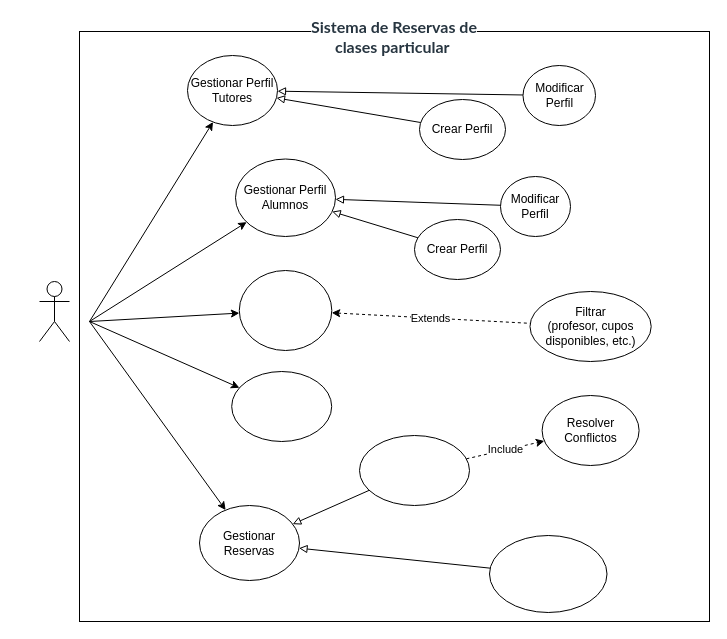
This 727x639 diagram has some shape labels left out. The shapes that lost their labels are listed below. From the top down, each one's centre as x and y in pixels, then its label:
At point (54, 311): "Administrador".
At point (285, 310): "Visualizar Calendario".
At point (281, 406): "Buscar Clases".
At point (414, 470): "Crear Reserva".
At point (547, 573): "Modificar/Cancelar Reserva".
